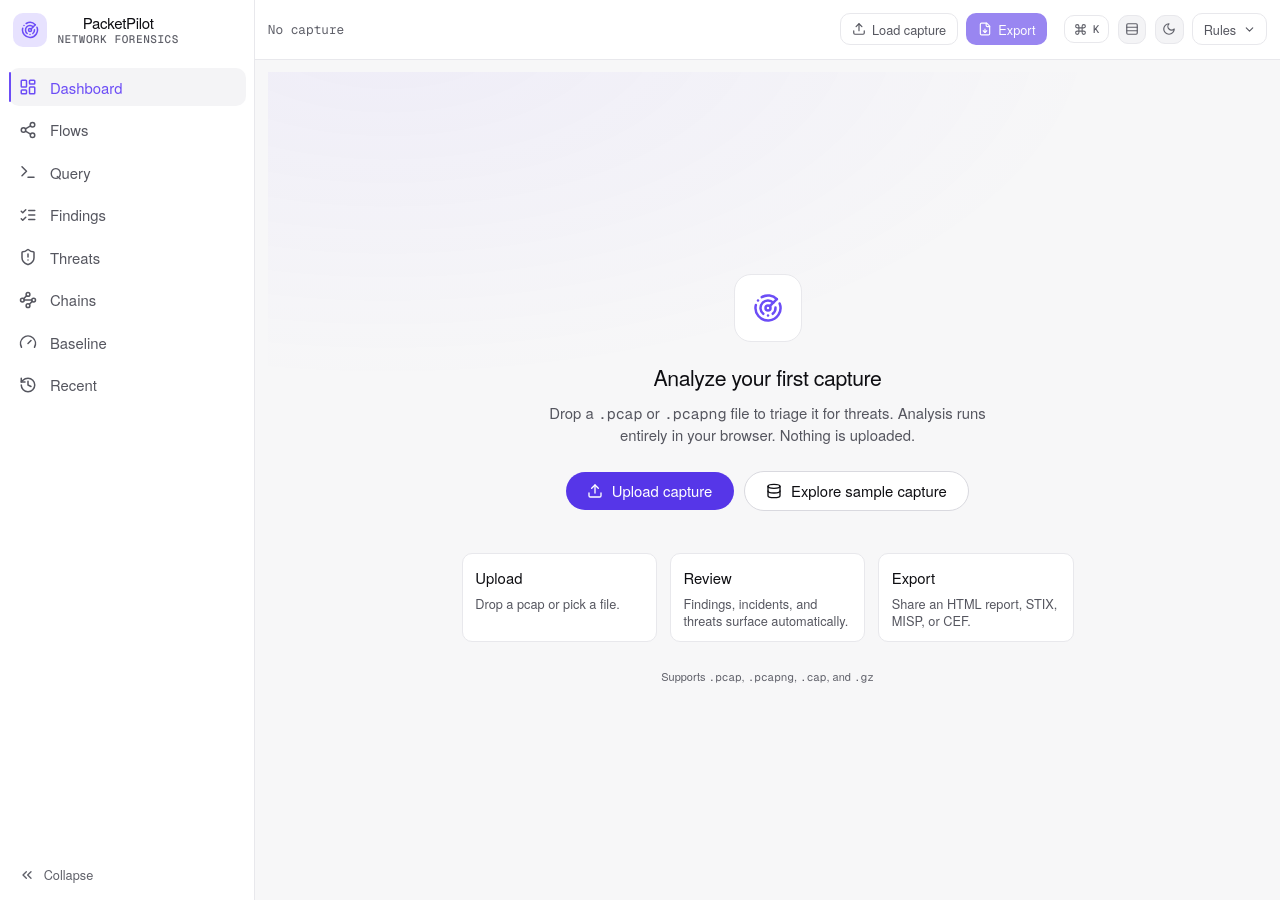
Test: App routing › the wordmark returns to the Home overview, unloading the active capture
Click the button "Explore sample capture". click: {"x": 857, "y": 491}
box: [744, 471, 969, 511]
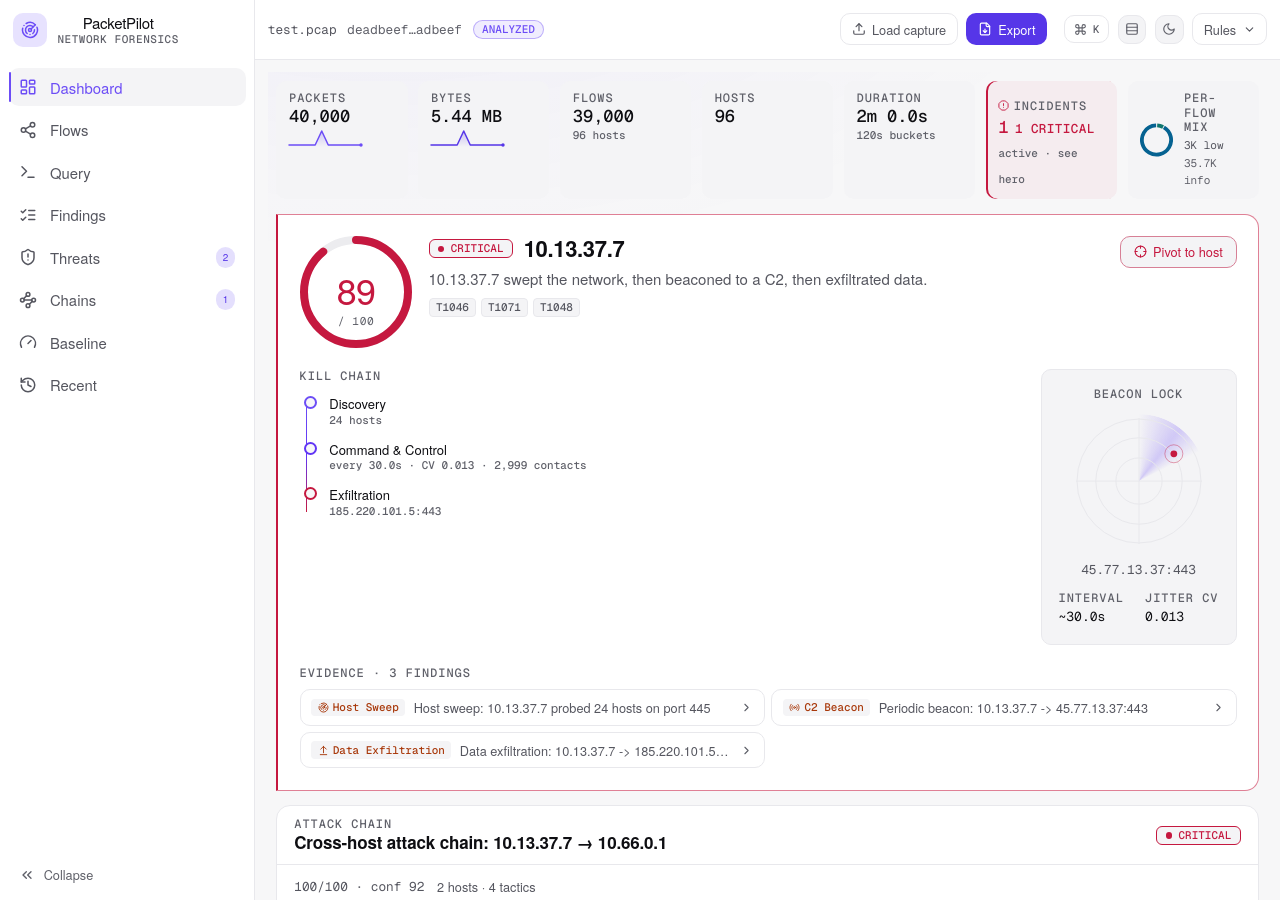
Now the text "Packets" is shown, box [289, 90, 346, 106]
Click the button with aria-label "go to overview". click: {"x": 96, "y": 30}
box: [13, 13, 179, 47]
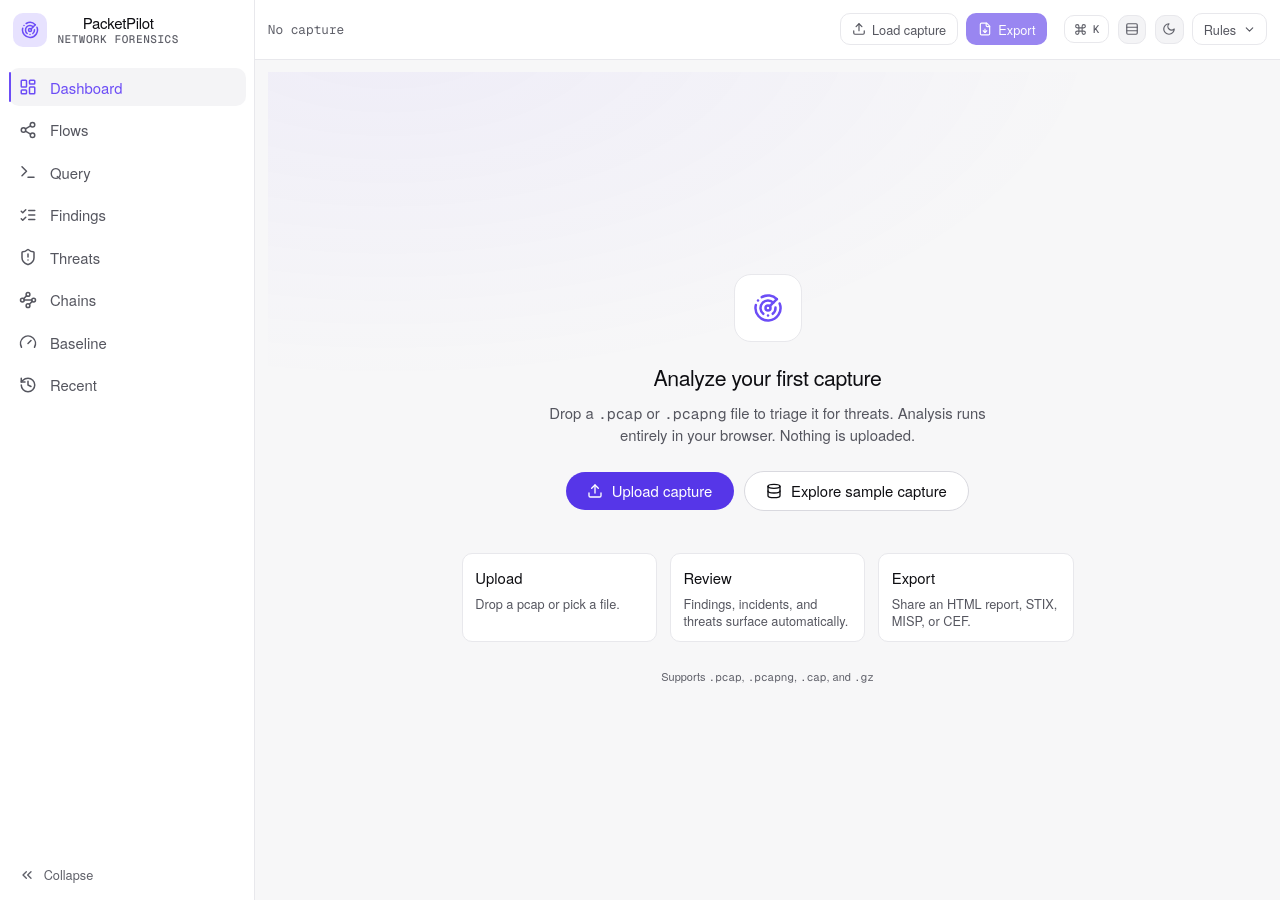
Now the heading "Analyze your first capture" is shown, box [654, 363, 881, 393]
Now the text "Packets" is gone
